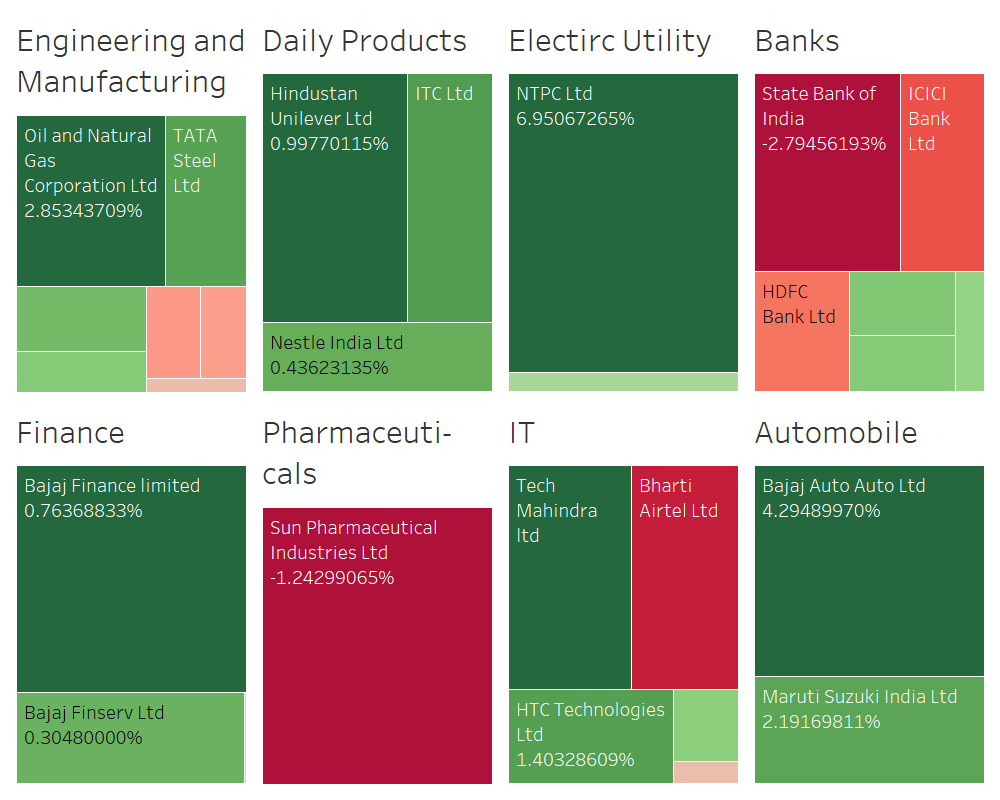

What the dashboard file says about the page in this screenshot:
{"tool":"tableau","page":{"name":"BSE 30 Dynamic Dashboard","canvas":[1000,800],"ordinal":0},"visuals":[{"type":"worksheet","box":[0,0,1000,800]},{"type":"worksheet","param":"horz","box":[8,8,984,784]},{"type":"worksheet","param":"horz","box":[8,8,984,784]},{"type":"worksheet","param":"horz","box":[8,8,984,784]},{"type":"worksheet","param":"horz","box":[8,8,984,784]},{"type":"worksheet","param":"horz","box":[8,8,984,784]},{"type":"worksheet","param":"horz","box":[8,8,984,784]},{"type":"worksheet","param":"horz","box":[8,8,984,784]},{"type":"worksheet","param":"horz","box":[8,8,984,784]},{"type":"worksheet","box":[8,8,984,784]},{"type":"worksheet","title":"Engineering and Manufacturing","mark":"Automatic","box":[8,8,246,392]},{"type":"worksheet","title":"Daily Products","mark":"Automatic","box":[254,8,246,392]},{"type":"worksheet","title":"Electirc Utility","mark":"Automatic","box":[500,8,246,392]},{"type":"worksheet","title":"Banks","mark":"Automatic","box":[746,8,246,392]},{"type":"worksheet","title":"Finance","mark":"Automatic","box":[8,400,246,392]},{"type":"worksheet","title":"Pharmaceuticals","mark":"Automatic","box":[254,400,246,392]},{"type":"worksheet","title":"IT","mark":"Automatic","box":[500,400,246,392]},{"type":"worksheet","title":"Automobile","mark":"Automatic","box":[746,400,246,392]}]}

Visuals, with their boxes in screenshot pixels (x1, y1, x2, y2), scaled from the page's 1000x800 canvas onto the 1000x800 screenshot:
worksheet: 0 0 999 799
worksheet: 8 8 992 792
worksheet: 8 8 992 792
worksheet: 8 8 992 792
worksheet: 8 8 992 792
worksheet: 8 8 992 792
worksheet: 8 8 992 792
worksheet: 8 8 992 792
worksheet: 8 8 992 792
worksheet: 8 8 992 792
"Engineering and Manufacturing" worksheet: 8 8 254 400
"Daily Products" worksheet: 254 8 500 400
"Electirc Utility" worksheet: 500 8 746 400
"Banks" worksheet: 746 8 992 400
"Finance" worksheet: 8 400 254 792
"Pharmaceuticals" worksheet: 254 400 500 792
"IT" worksheet: 500 400 746 792
"Automobile" worksheet: 746 400 992 792
